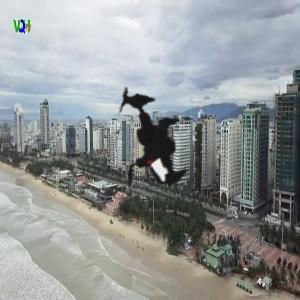drone: (64, 62, 226, 224)
